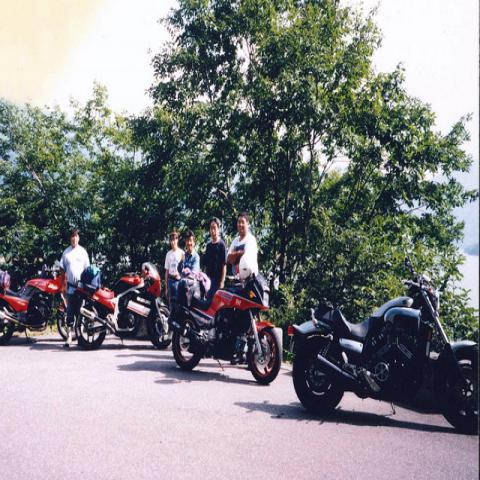motorcycle: (290, 280, 479, 438), (168, 270, 280, 385), (69, 258, 173, 359), (0, 273, 68, 347)
